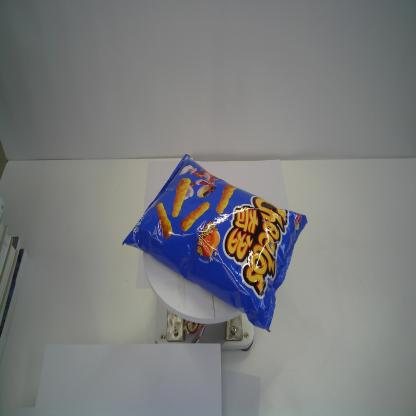Puffed Food: (121, 152, 308, 334)
